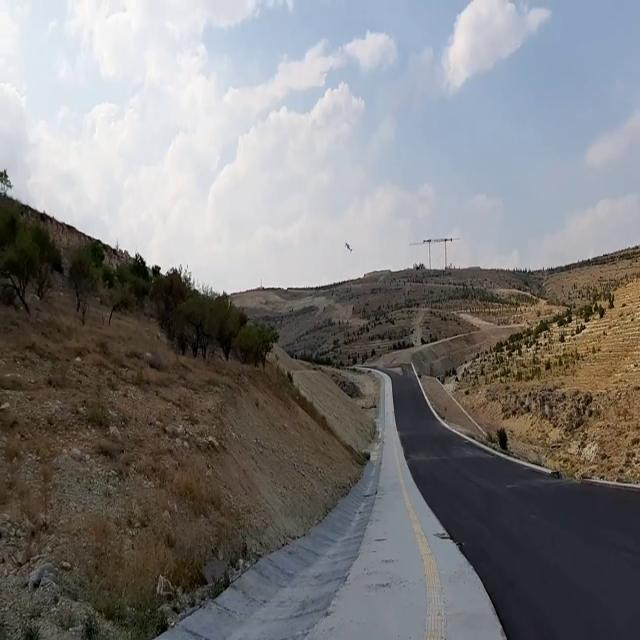iha: (346, 240, 352, 256)
